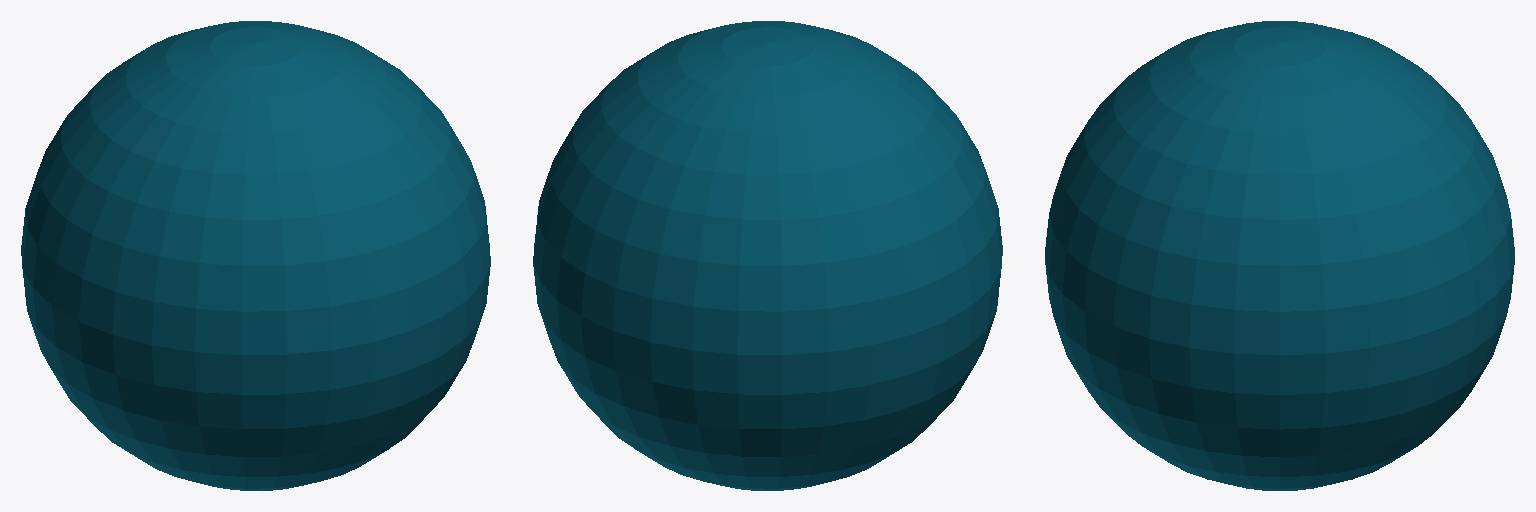
Rendered from DeathParticles.obj.
3 views of the same model, side by side, from view 1: azimuth 30°, elevation 25°; view 2: azimuth 150°, elevation 25°; view 3: azimuth 270°, elevation 25° (orthographic).
Parts seen in each view (by area): view 1: 球; view 2: 球; view 3: 球.
Part boxes in pixels (x1,y1,x2,y2): 球: (21,21,490,490); 球: (533,21,1002,490); 球: (1045,21,1514,490).
Bounding box in the file's own units: 0.3288 × 0.3288 × 0.3288.